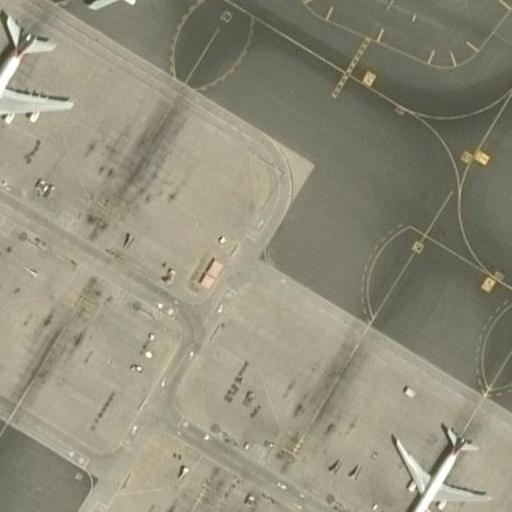Aircraft: (0, 9, 70, 149), (390, 420, 489, 512), (74, 0, 210, 7)
